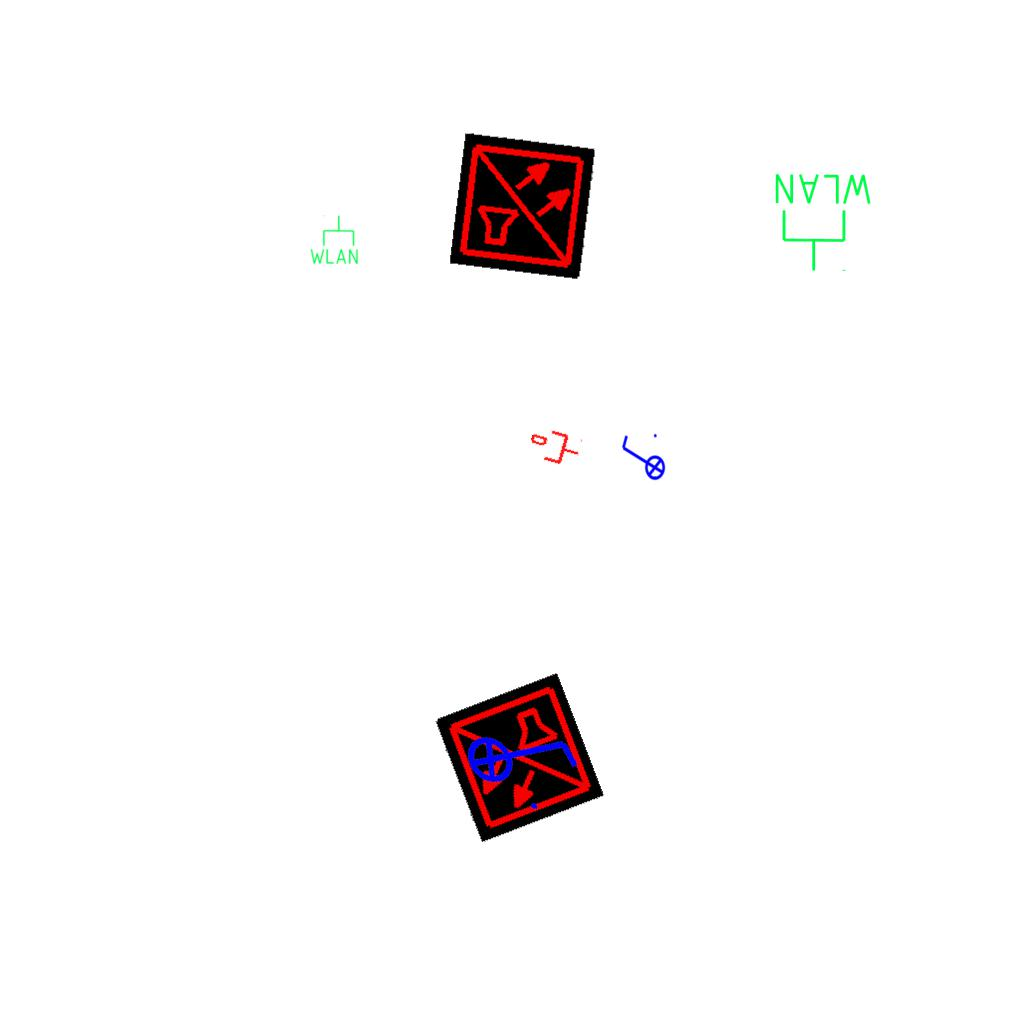Ausschalter_beleuchtet: (447, 680, 595, 828), (469, 782, 525, 830), (618, 431, 666, 487)
Datenanschluss_einfach: (526, 423, 584, 471)
OKW_Multisensormelder_(Kombination_optischer_Rauch-Kahlenmonoxid_Waerme-Melder): (433, 672, 605, 844), (449, 132, 597, 280)
WLAN: (771, 170, 876, 274), (308, 214, 360, 266)
